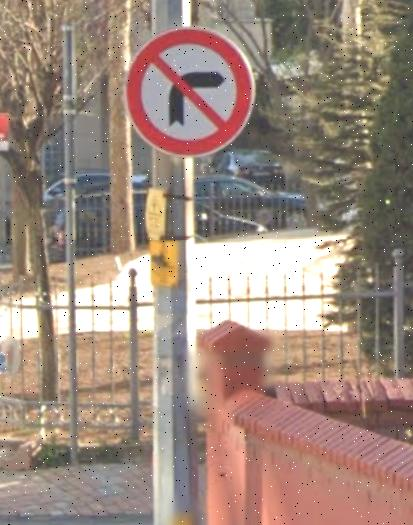rightturnsareforbidden: (124, 25, 254, 157)
